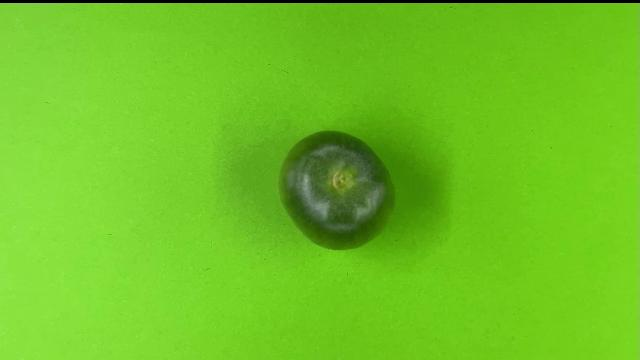Fruit Maturation: (275, 127, 397, 253)
